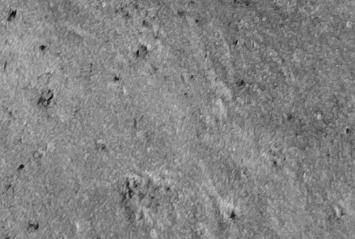crack: (1, 1, 355, 239)
